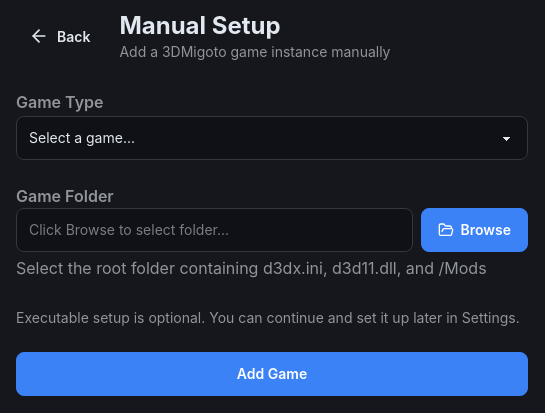
ManualSetupForm (TC-03) › allows browsing for a folder
Click the button "Browse" at (475, 230), box [422,208,528,252]
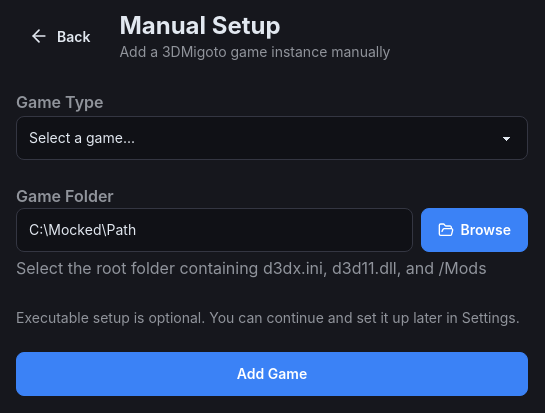
expect the field showing "C:\\Mocked\\Path" is shown: met, box [16,208,414,252]
